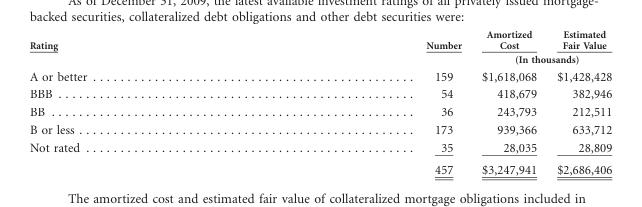table: (28, 28, 611, 175)
table column: (28, 28, 255, 175), (255, 28, 470, 175), (470, 28, 546, 175), (546, 28, 611, 175)
table column header: (28, 28, 611, 66)
table row: (28, 28, 611, 51), (28, 138, 611, 158), (28, 66, 611, 84), (28, 84, 611, 102), (28, 102, 611, 120), (28, 120, 611, 138), (28, 158, 611, 175), (28, 51, 611, 66)
table spanning cell: (28, 28, 255, 66), (255, 28, 470, 66), (470, 51, 611, 66)
